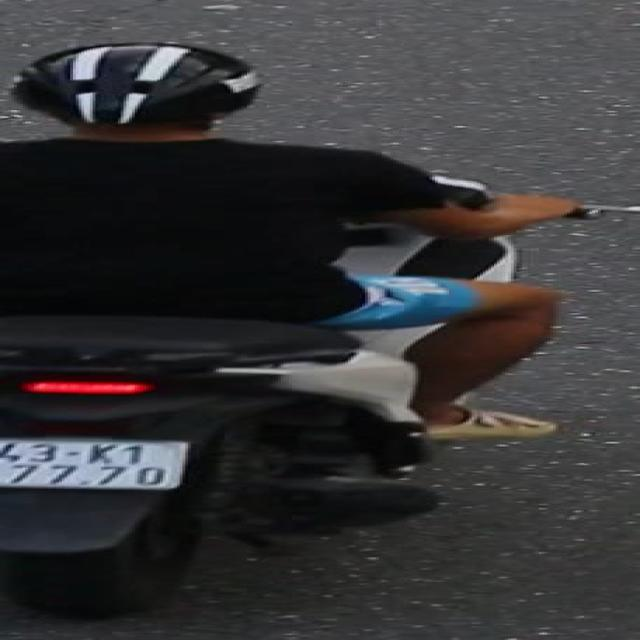LP: (0, 432, 191, 497)
helmet: (0, 36, 317, 126)
